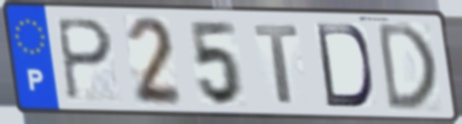2: (123, 14, 186, 109)
5: (184, 18, 248, 108)
D: (374, 20, 439, 114), (313, 21, 376, 110)
P: (53, 15, 117, 104)
T: (251, 23, 302, 107)
